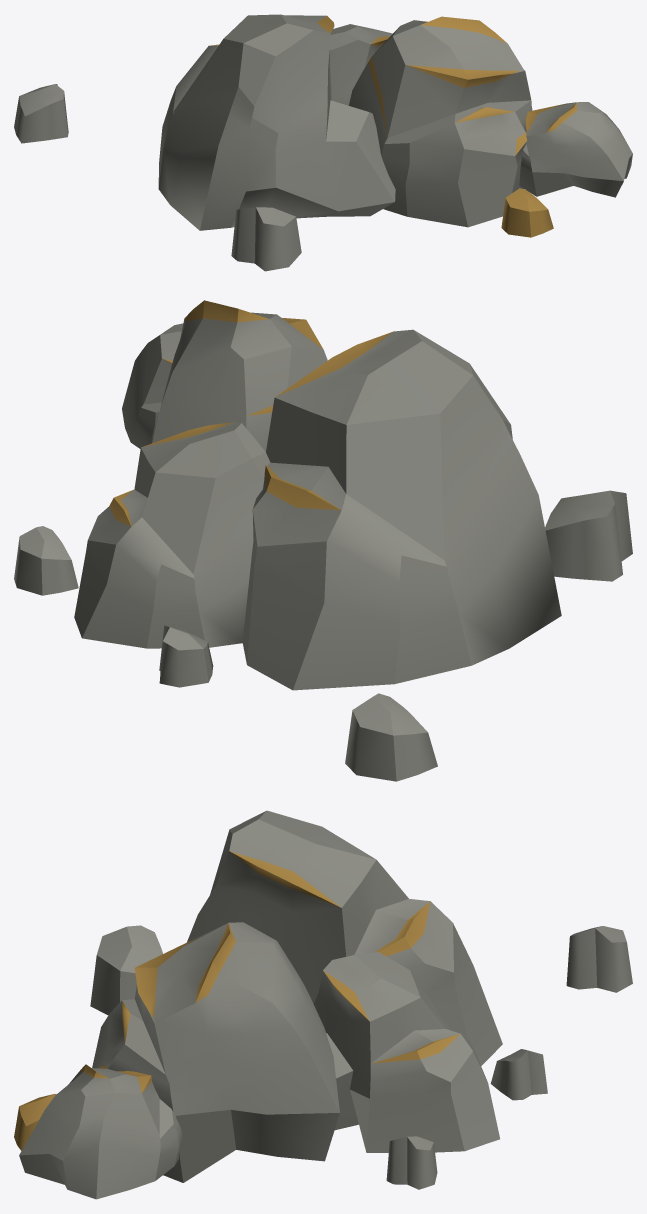
File: Resource Gold.glb
The picture shows the model from 3 angles, top to bottom: view 1: azimuth 30°, elevation 25°; view 2: azimuth 150°, elevation 25°; view 3: azimuth 270°, elevation 25°; orthographic projection. The views are drawn at different scales.
Parts seen in each view (by area): view 1: Resource_Gold_2; view 2: Resource_Gold_2; view 3: Resource_Gold_2.
Boxes of the visible parts, <box> form: Resource_Gold_2: <box>14,14,632,271</box>; Resource_Gold_2: <box>14,300,632,781</box>; Resource_Gold_2: <box>14,810,632,1199</box>.
Size of the model in its own units: 13.14 by 5.49 by 13.31.
